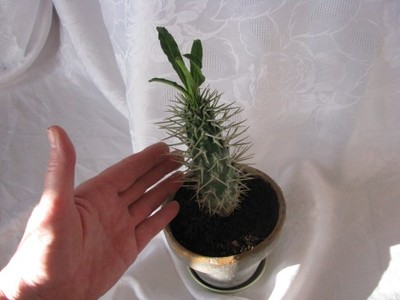Pachypodium lamerei Drake: (145, 31, 266, 217)
